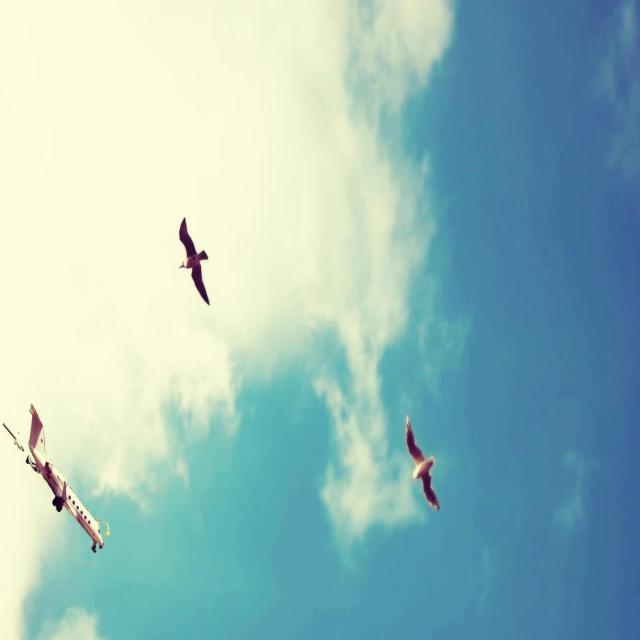airplane: (2, 402, 111, 553)
